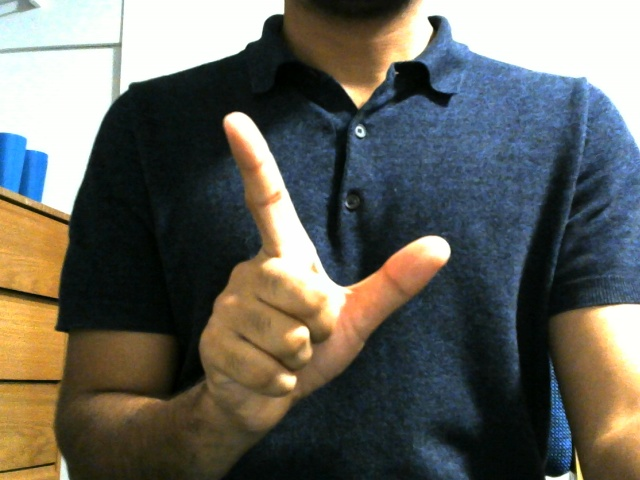L: (186, 113, 460, 409)
